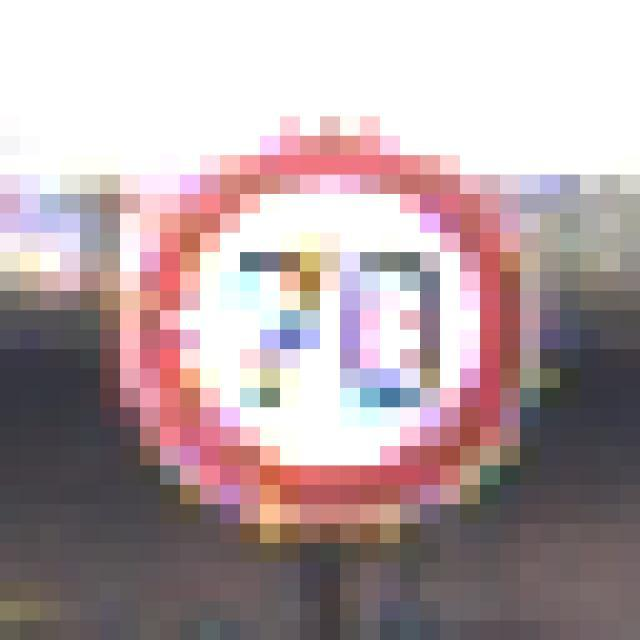Ograniczenie predkosci do 70: (142, 138, 532, 525)
